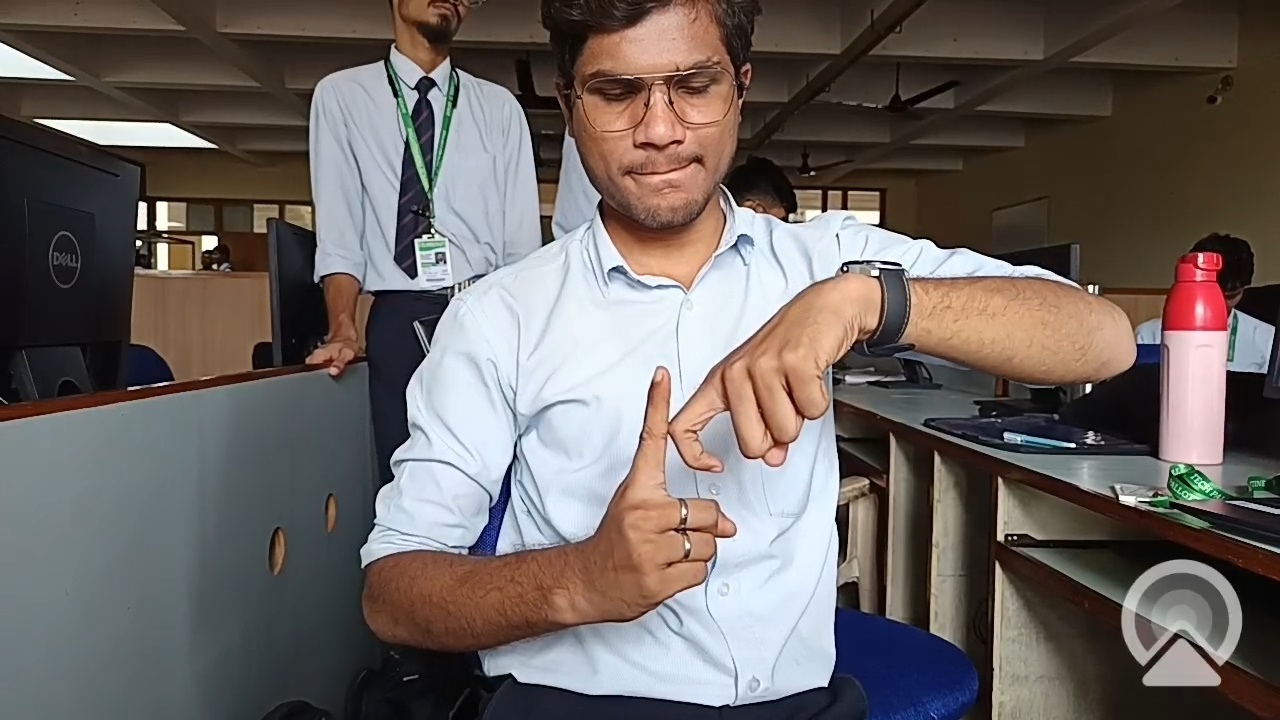K: (541, 276, 872, 656)
